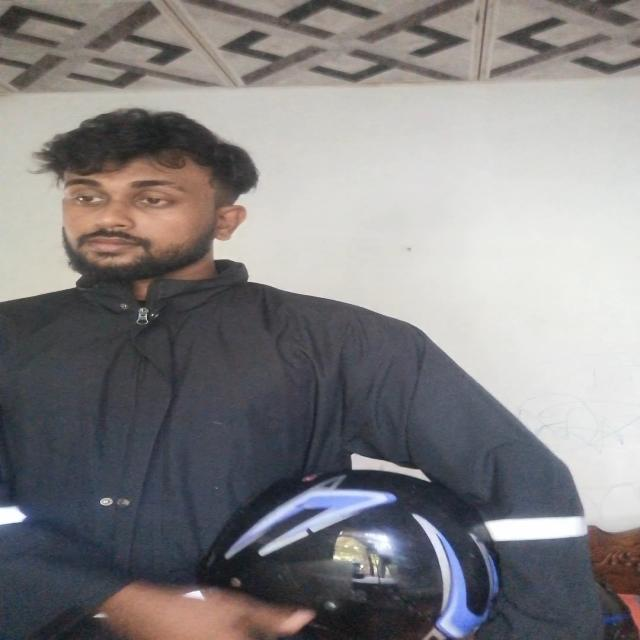Jacket_Wearer: (5, 261, 608, 640)
Person: (3, 106, 619, 640)
